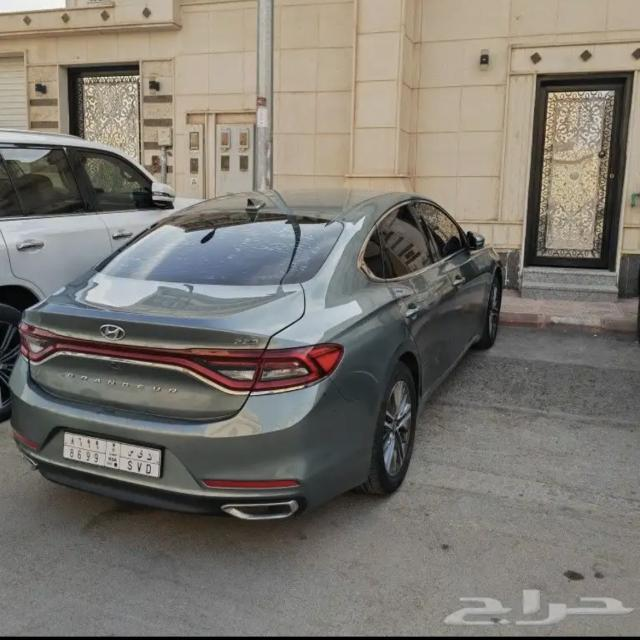license_plate: (63, 428, 164, 481)
